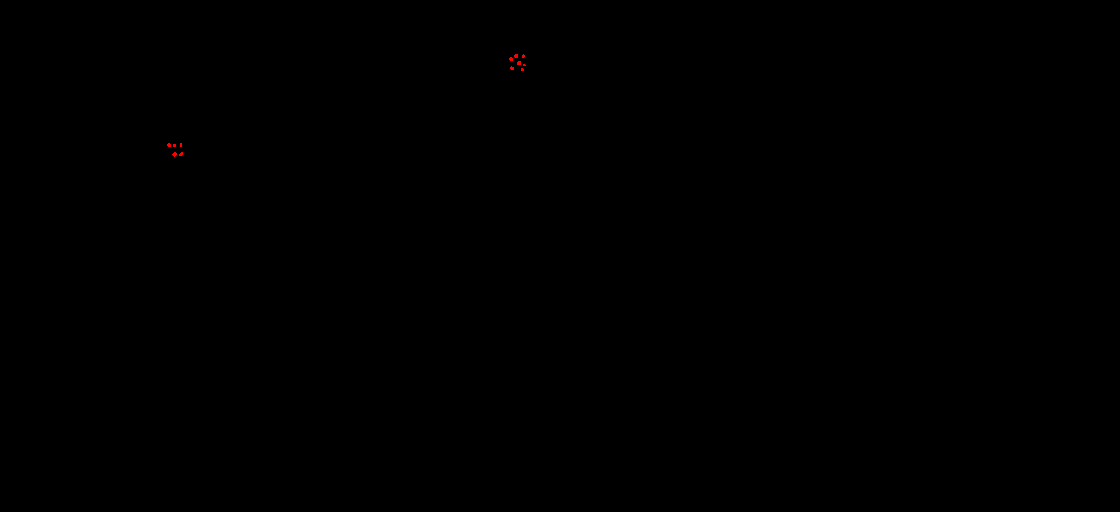Target: (172, 152, 177, 157), (514, 54, 518, 58), (509, 57, 513, 61), (517, 61, 521, 65), (510, 66, 514, 70), (167, 143, 171, 147), (179, 152, 183, 156), (522, 54, 525, 58), (521, 68, 524, 71), (173, 144, 176, 147), (180, 143, 182, 147), (523, 64, 526, 66)
